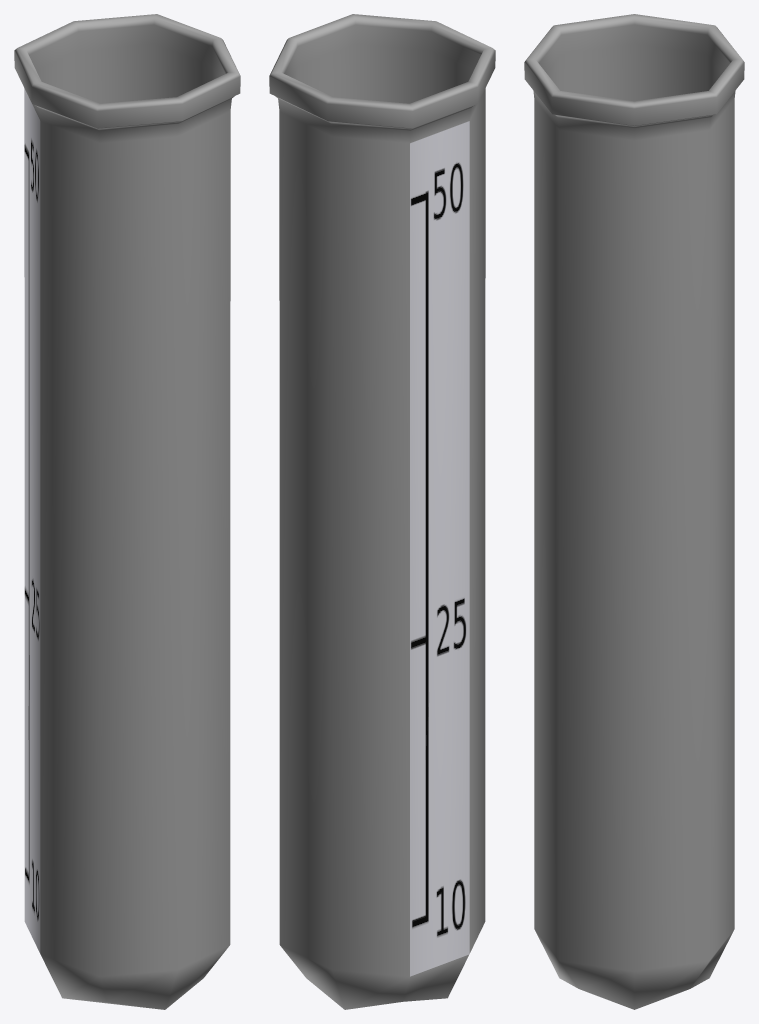
The model's file is POTASSIUM_anim.fbx.
The picture shows the model from 3 angles, left to right: view 1: azimuth 30°, elevation 25°; view 2: azimuth 150°, elevation 25°; view 3: azimuth 270°, elevation 25°; orthographic projection.
Parts seen in each view (by area): view 1: test_tube5; view 2: test_tube5; view 3: test_tube5.
Boxes of the visible parts, x1,y1,x2,y2 form: test_tube5: (14, 14, 240, 1009); test_tube5: (269, 14, 495, 1009); test_tube5: (524, 14, 744, 1009).
Bounding box in the file's own units: 5.73 × 26.82 × 5.73.
Materials: 4 (2 with a texture image).
